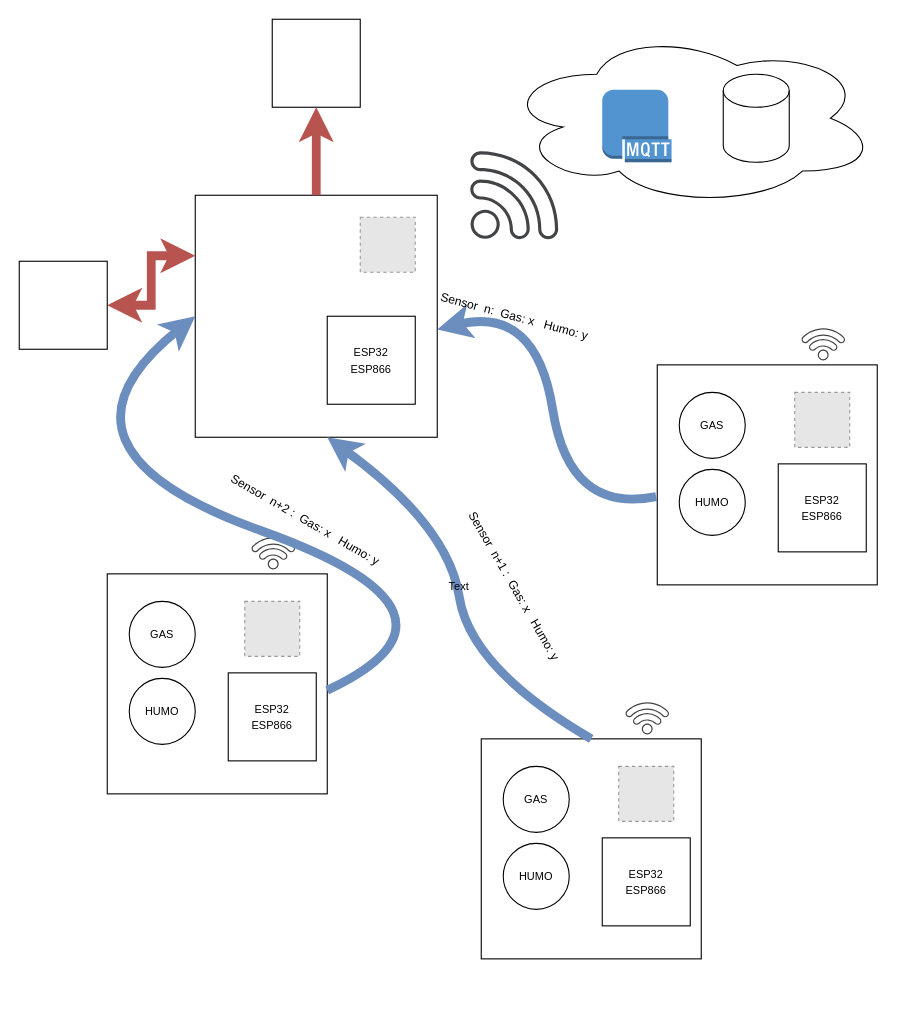
This 897x1033 diagram has some shape labels left out. Grey dashed boxes stand in for pictures. Each missing label, with the centre of its shape:
"ACCESO A USUARIOS" belongs at pixel 62 304.
"VÁLVULA DE CONTROL DE GAS" belongs at pixel 315 62.
